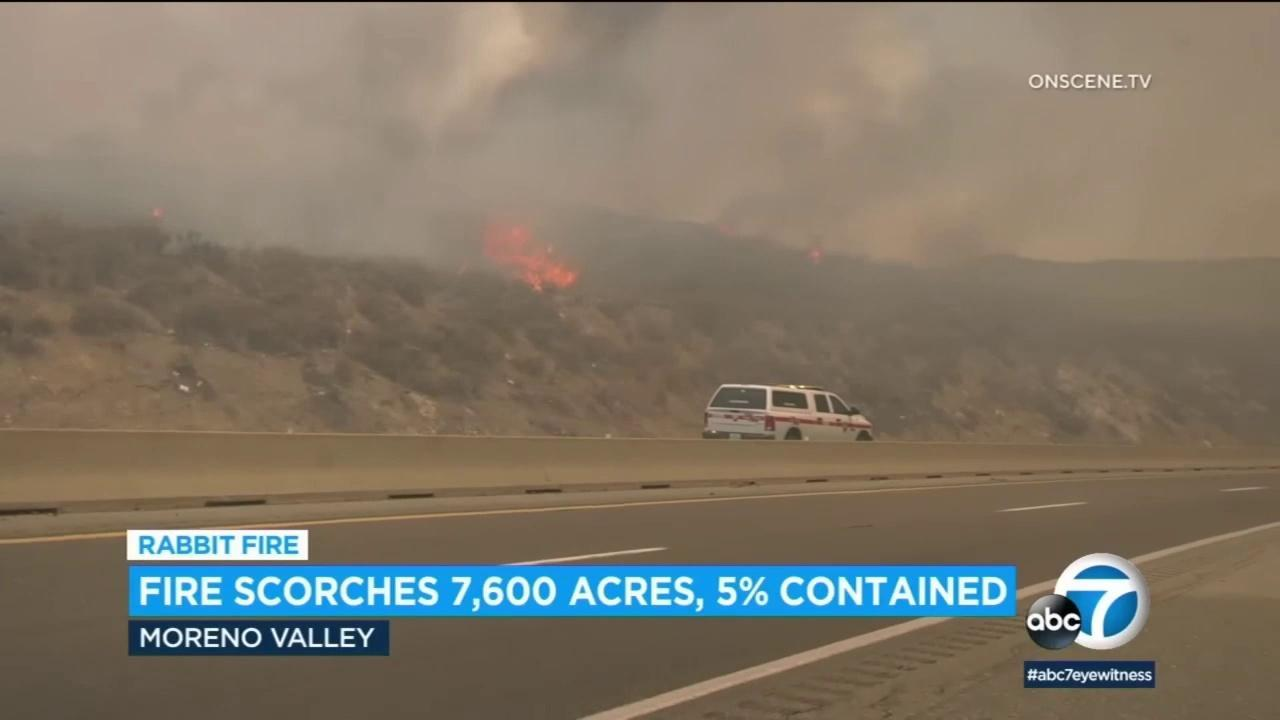fire: (479, 220, 577, 293), (807, 249, 821, 260), (153, 208, 163, 219)
smoke: (0, 3, 1280, 340)
